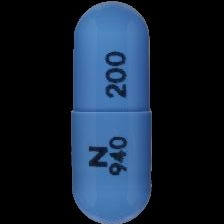55289-273: (0, 0, 224, 224)
